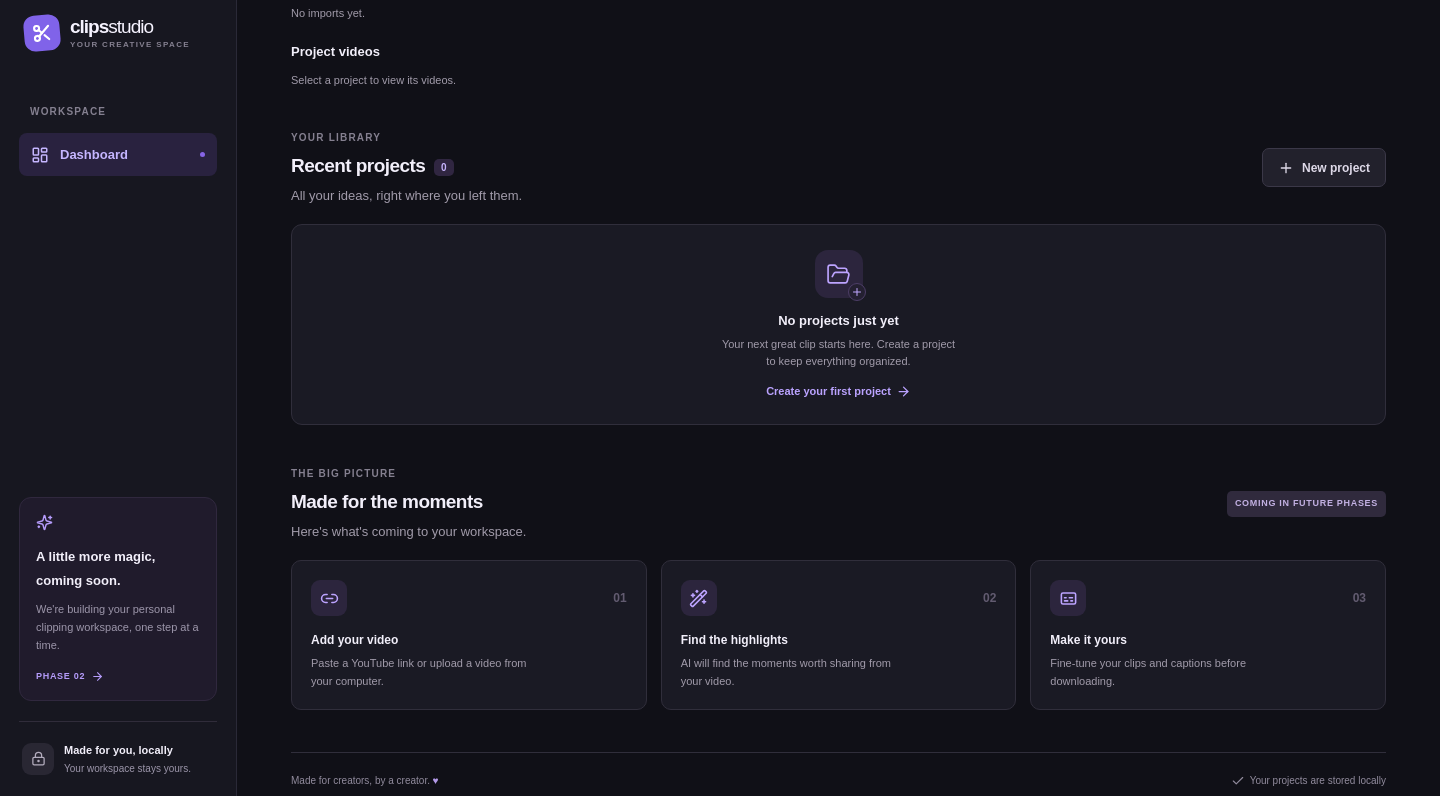
dashboard › loads, creates and deletes a project through the API
This screenshot has width=1440, height=796.
(page scrolled)
Expected: the heading "No projects just yet" is shown, [778, 311, 899, 331]
Step 1. Click the button "Create your first project" → x=838, y=391, box [766, 383, 911, 399]
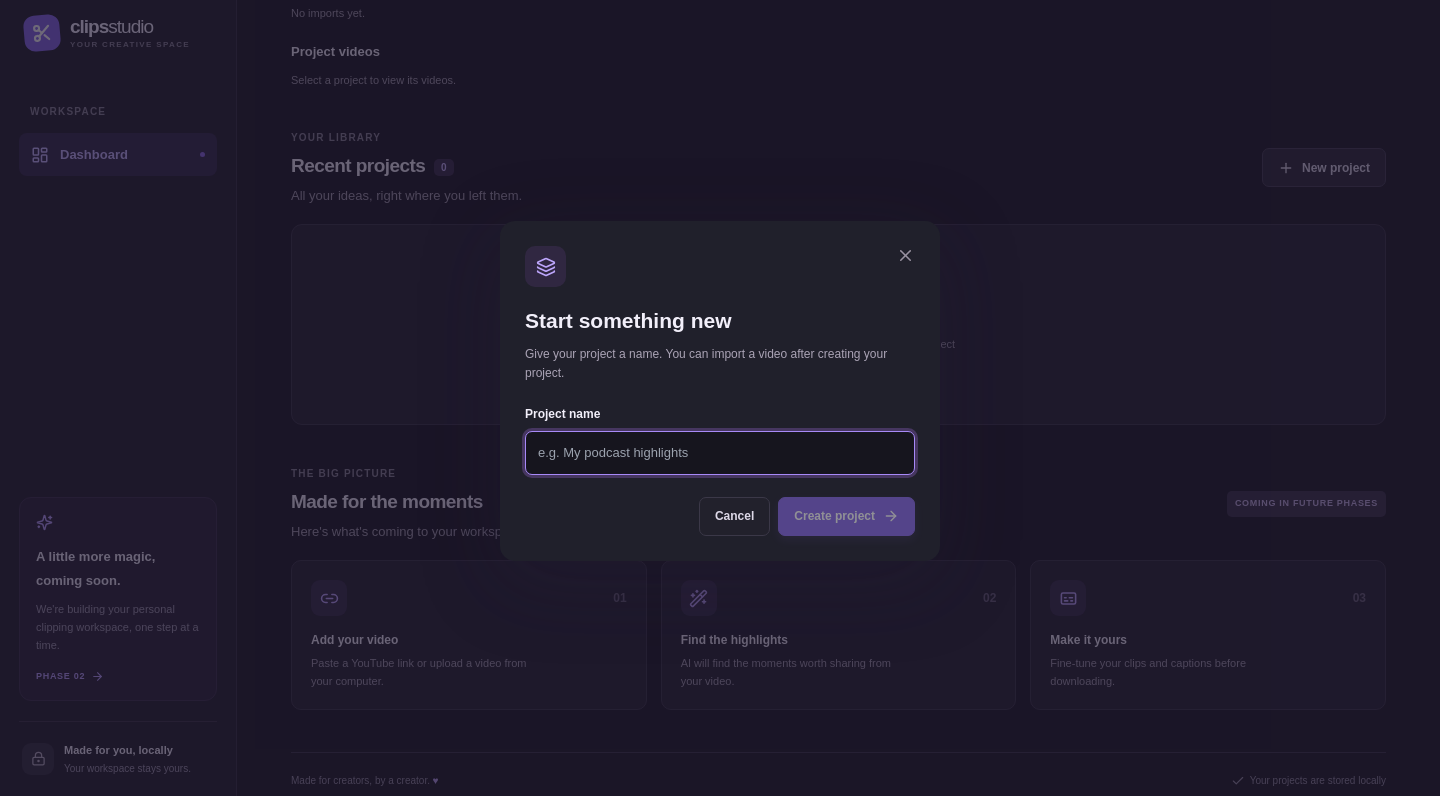
Step 2. Type "My video" into the field labelled "Project name" → x=720, y=453, box [525, 431, 915, 475]
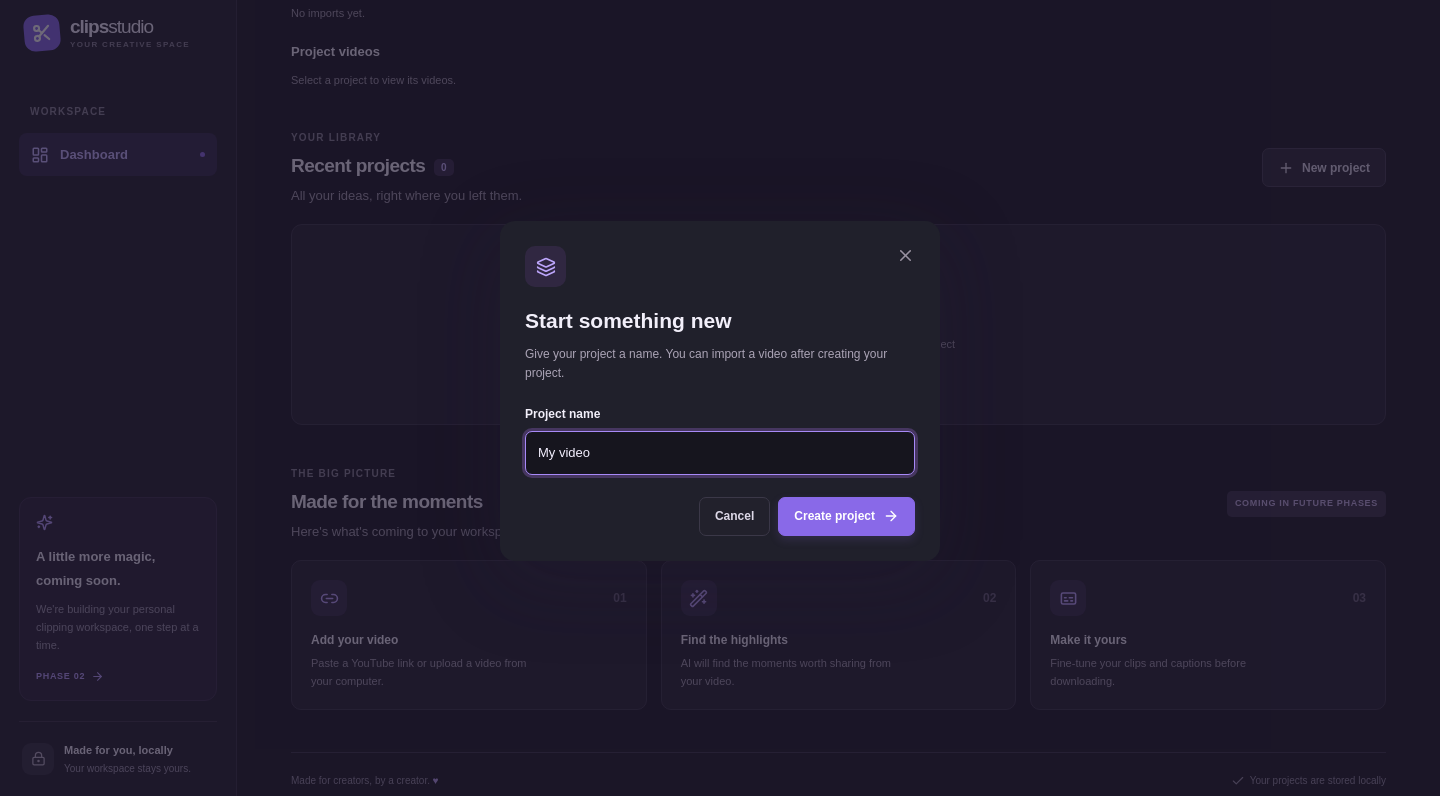
Step 3. Click the button "Create project" → x=847, y=516, box [778, 497, 915, 536]
(page scrolled)
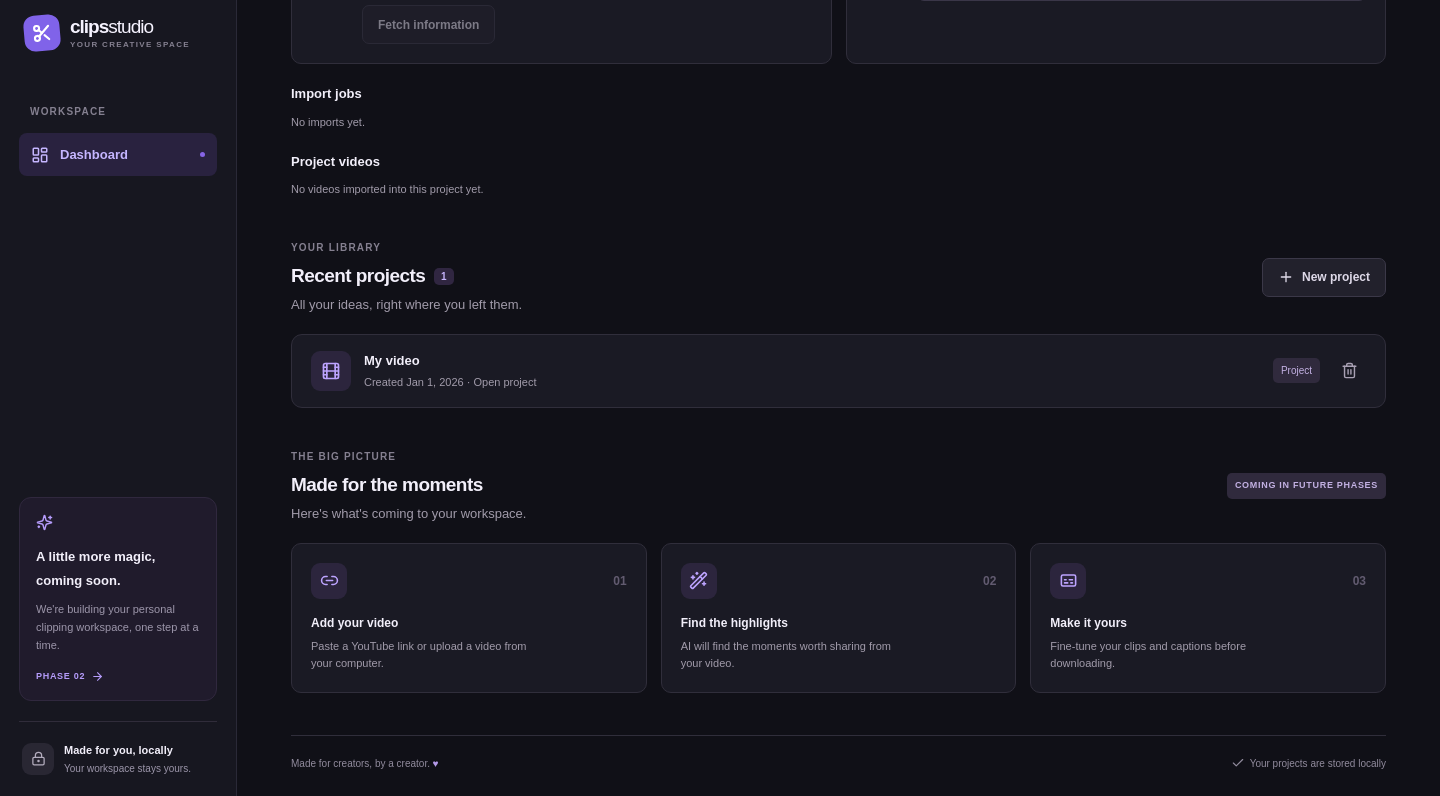
Expected: the button "My video Created Jan 1, 2026 · Open project" is shown, [364, 351, 1260, 391]
Step 4. Click the button named "Delete My video" → x=1350, y=371, box [1333, 354, 1366, 387]
(page scrolled)
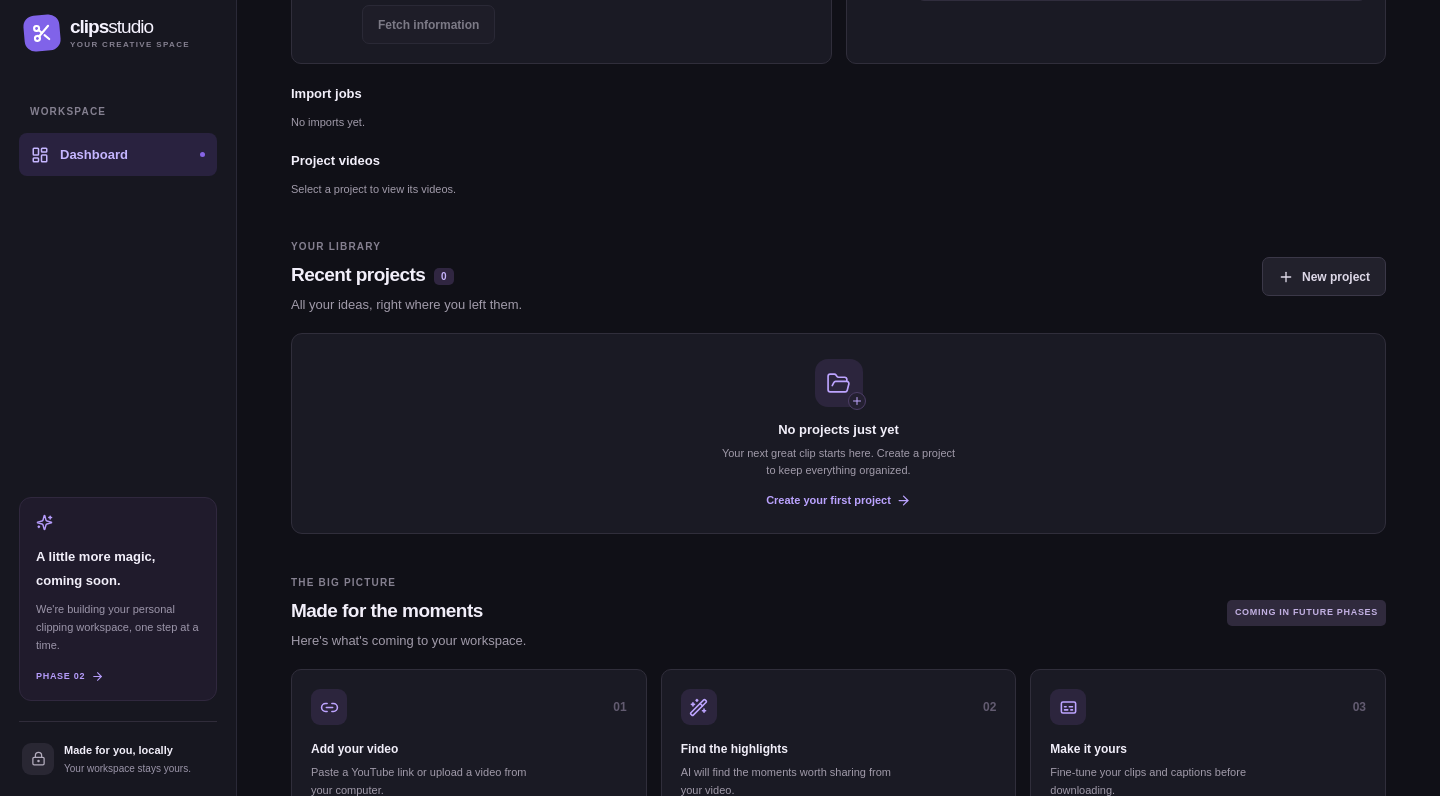
Expected: the heading "No projects just yet" is shown, [778, 420, 899, 440]
